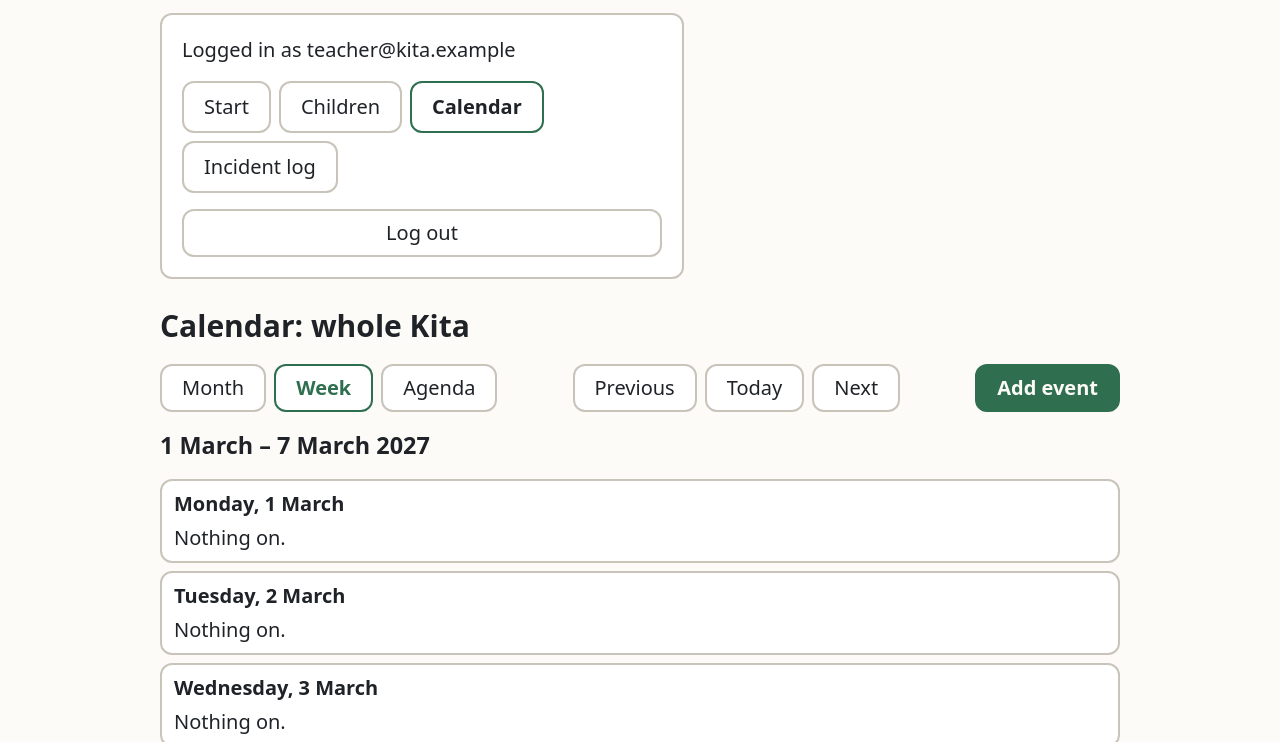
Calendar › starts a new event on a day being looked at, and keeps its end from coming before its start
The width and height of the screenshot is (1280, 742).
Click the button "Add event": [1048, 388] box [975,364,1120,412]
(page scrolled)
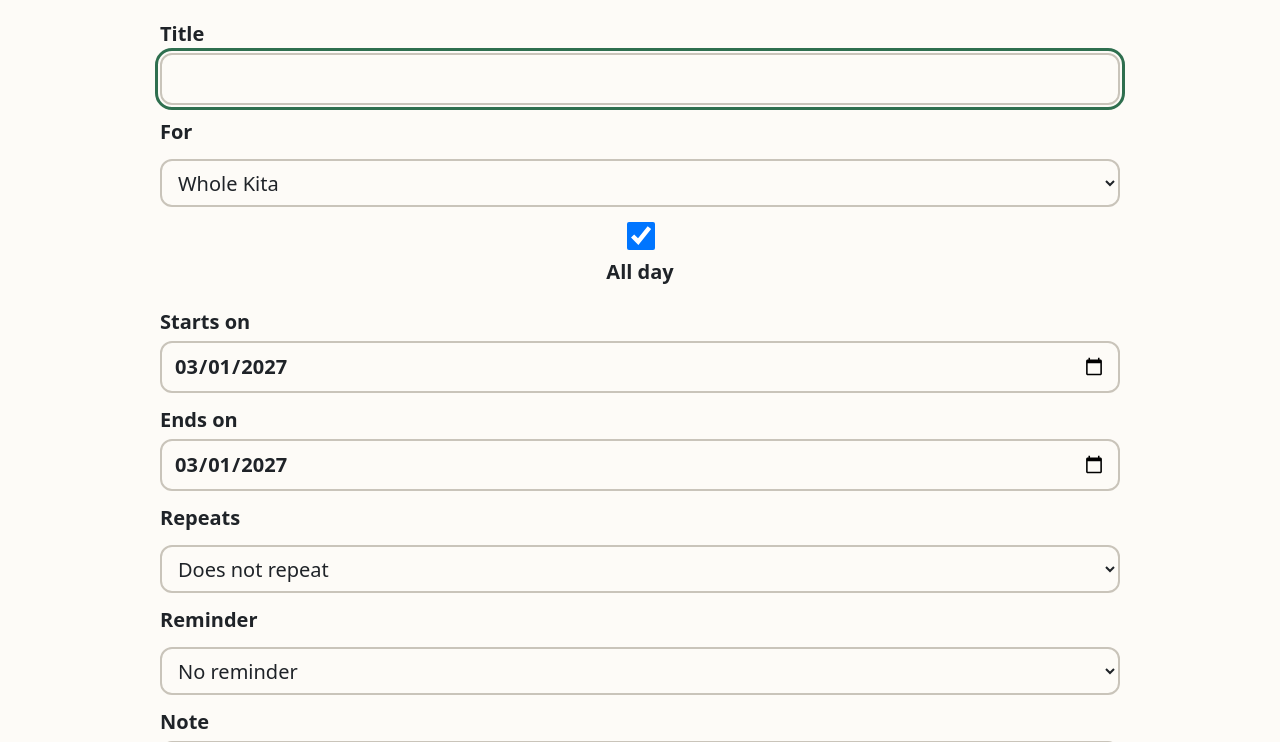
Now the date field labelled "Starts on" holds "2027-03-01"
In the date field labelled "Starts on": [640, 367] box [160,341,1120,393], type "2027-03-05"
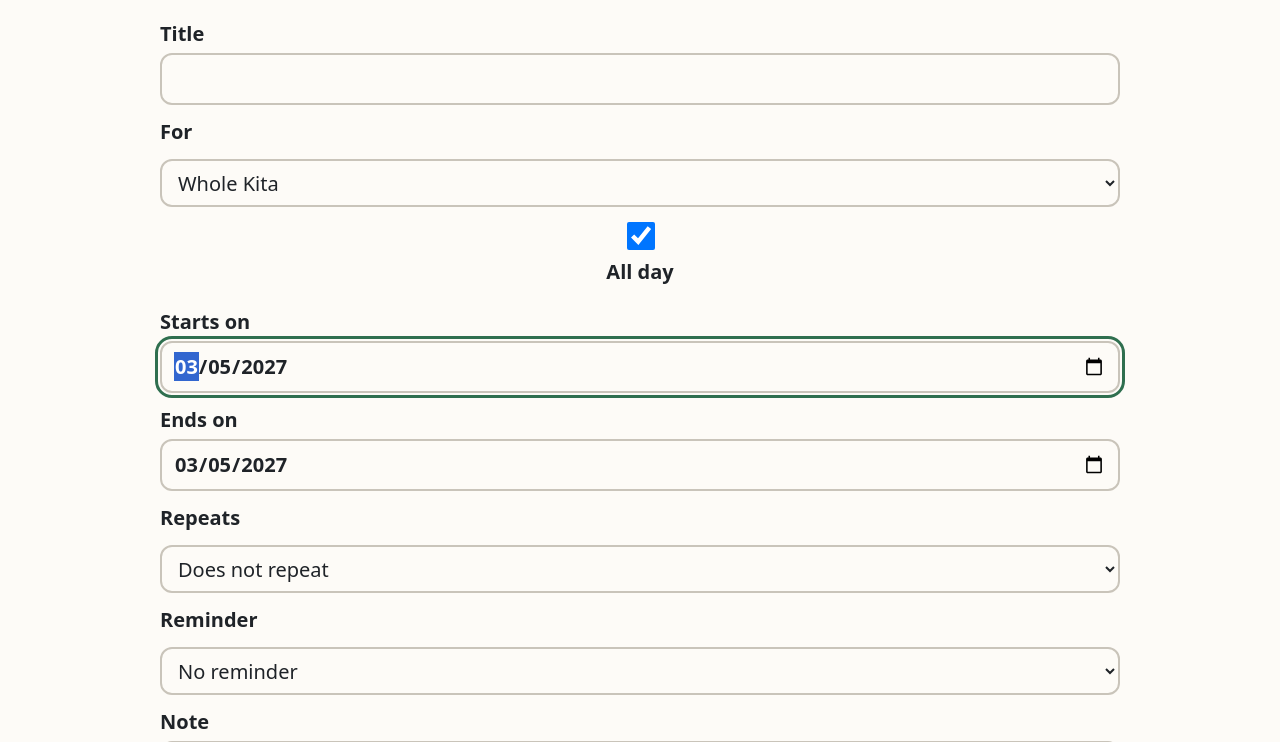
Now the date field labelled "Ends on" holds "2027-03-05", box [160,439,1120,491]
